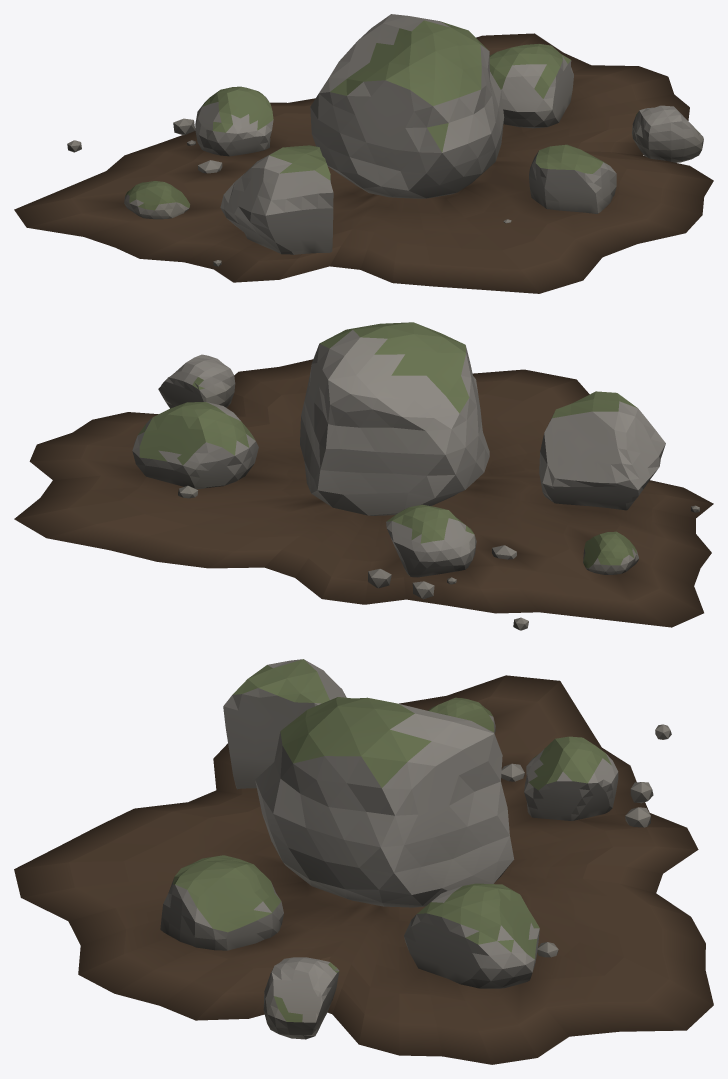
The model's file is rockfall_a.glb.
3 renders of one model, top to bottom at view 1: azimuth 30°, elevation 25°; view 2: azimuth 150°, elevation 25°; view 3: azimuth 270°, elevation 25°, orthographic. The views are drawn at different scales.
Parts seen in each view (by area): view 1: rockfall_a_litter_LOD0, rockfall_a_boulder_0_LOD0, rockfall_a_boulder_1_LOD0, rockfall_a_boulder_2_LOD0, rockfall_a_boulder_3_LOD0, rockfall_a_boulder_4_LOD0, rockfall_a_boulder_5_LOD0, rockfall_a_boulder_6_LOD0; view 2: rockfall_a_litter_LOD0, rockfall_a_boulder_0_LOD0, rockfall_a_boulder_1_LOD0, rockfall_a_boulder_2_LOD0, rockfall_a_boulder_4_LOD0, rockfall_a_boulder_5_LOD0, rockfall_a_boulder_6_LOD0; view 3: rockfall_a_litter_LOD0, rockfall_a_boulder_0_LOD0, rockfall_a_boulder_2_LOD0, rockfall_a_boulder_3_LOD0, rockfall_a_boulder_1_LOD0, rockfall_a_boulder_4_LOD0, rockfall_a_boulder_5_LOD0, rockfall_a_boulder_6_LOD0.
Boxes of the visible parts, x1,y1,x2,y2 form: rockfall_a_litter_LOD0: (14, 33, 713, 293); rockfall_a_boulder_0_LOD0: (310, 14, 504, 198); rockfall_a_boulder_1_LOD0: (220, 145, 333, 254); rockfall_a_boulder_2_LOD0: (489, 44, 573, 128); rockfall_a_boulder_3_LOD0: (529, 144, 616, 213); rockfall_a_boulder_4_LOD0: (195, 86, 273, 156); rockfall_a_boulder_5_LOD0: (632, 105, 703, 162); rockfall_a_boulder_6_LOD0: (124, 181, 190, 219); rockfall_a_litter_LOD0: (14, 359, 713, 630); rockfall_a_boulder_0_LOD0: (300, 322, 489, 515); rockfall_a_boulder_1_LOD0: (539, 391, 665, 510); rockfall_a_boulder_2_LOD0: (132, 402, 258, 489); rockfall_a_boulder_4_LOD0: (386, 504, 476, 577); rockfall_a_boulder_5_LOD0: (158, 354, 235, 408); rockfall_a_boulder_6_LOD0: (583, 531, 638, 574); rockfall_a_litter_LOD0: (14, 675, 713, 1064); rockfall_a_boulder_0_LOD0: (255, 697, 514, 907); rockfall_a_boulder_2_LOD0: (404, 883, 539, 988); rockfall_a_boulder_3_LOD0: (160, 855, 283, 950); rockfall_a_boulder_1_LOD0: (223, 659, 346, 789); rockfall_a_boulder_4_LOD0: (524, 736, 618, 820); rockfall_a_boulder_5_LOD0: (263, 957, 339, 1039); rockfall_a_boulder_6_LOD0: (428, 697, 495, 733).
Size of what is drawn, in the model's own units: 4.87 by 1.13 by 3.7.
